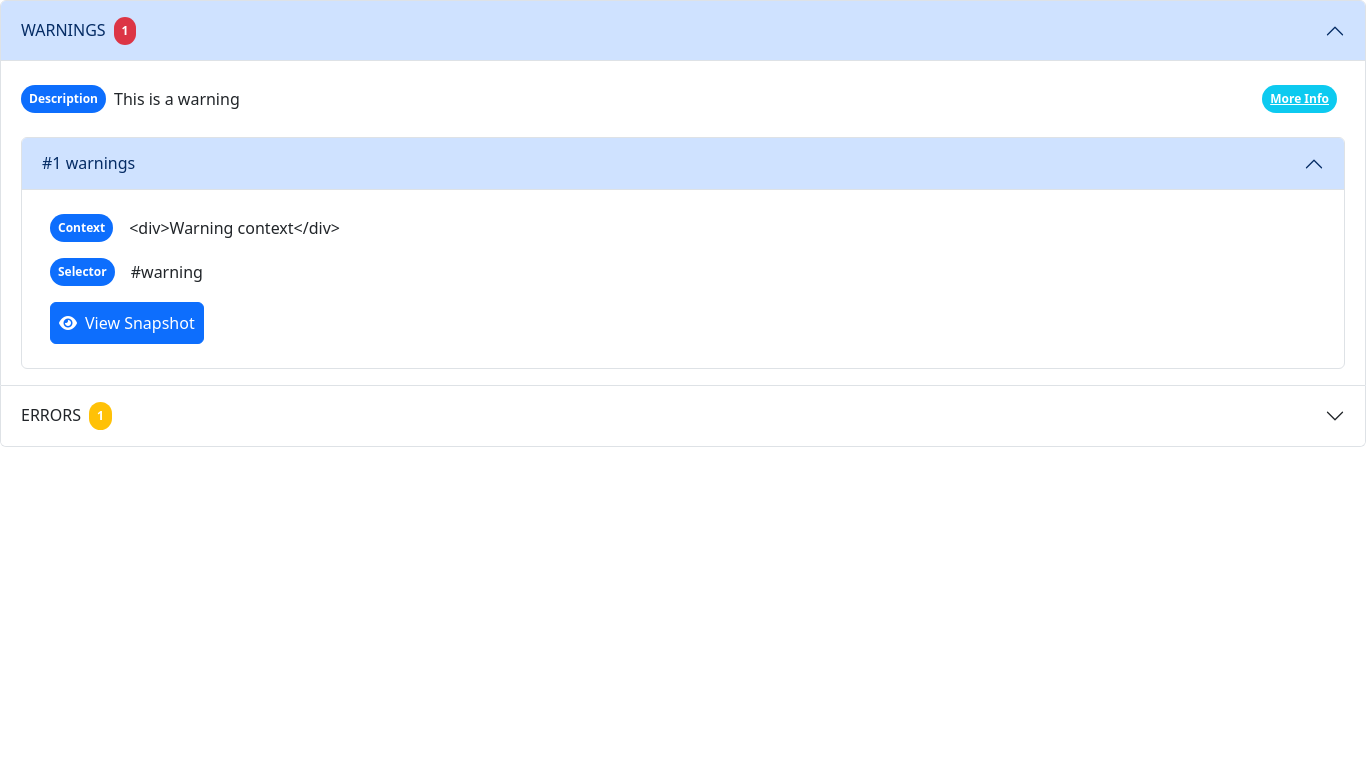
Test case: ResultAccordion Component › closes the modal when close button is clicked
This screenshot has width=1366, height=768.
Click the button "View Snapshot". click: (127, 323)
box: [50,302,204,344]
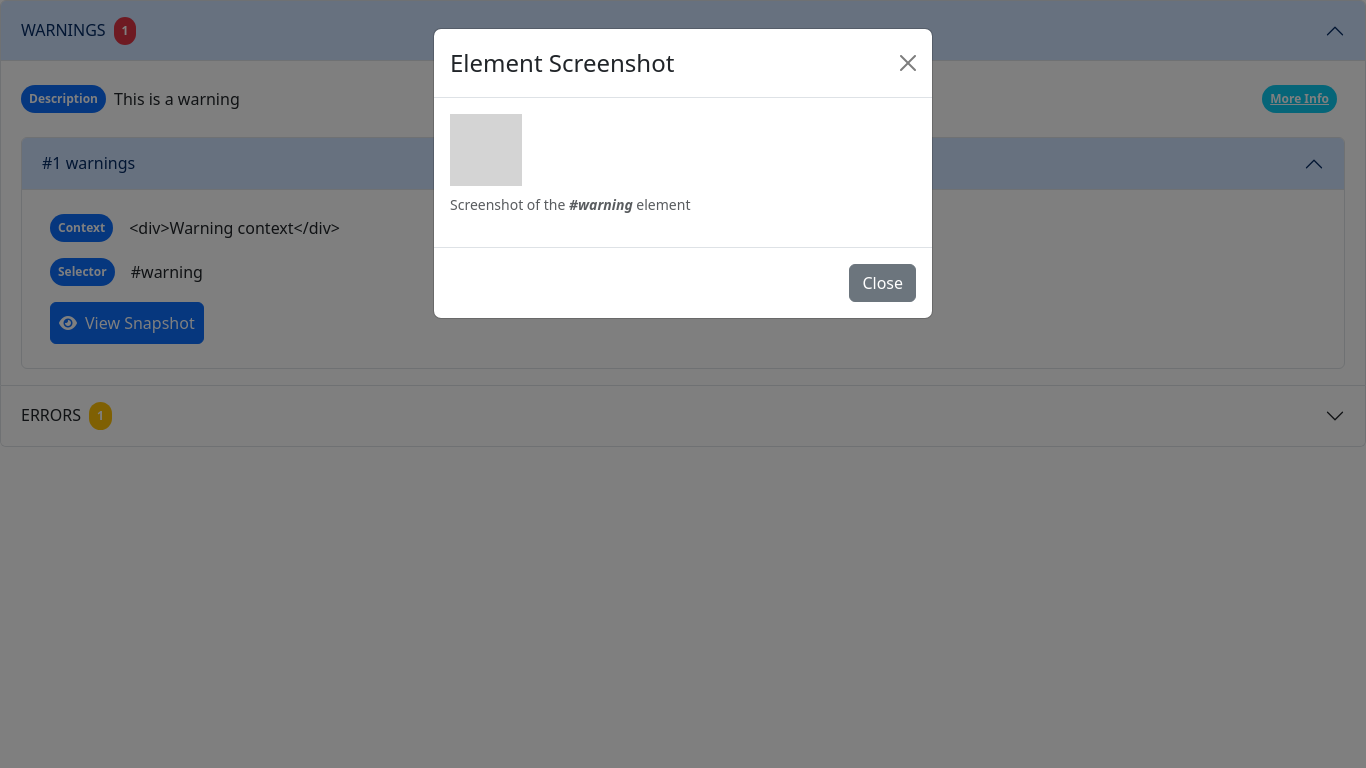
Expected: the text "Element Screenshot" is shown, [450,45,674,81]
Click the button "Close". click: (883, 283)
box: [849,264,916,302]
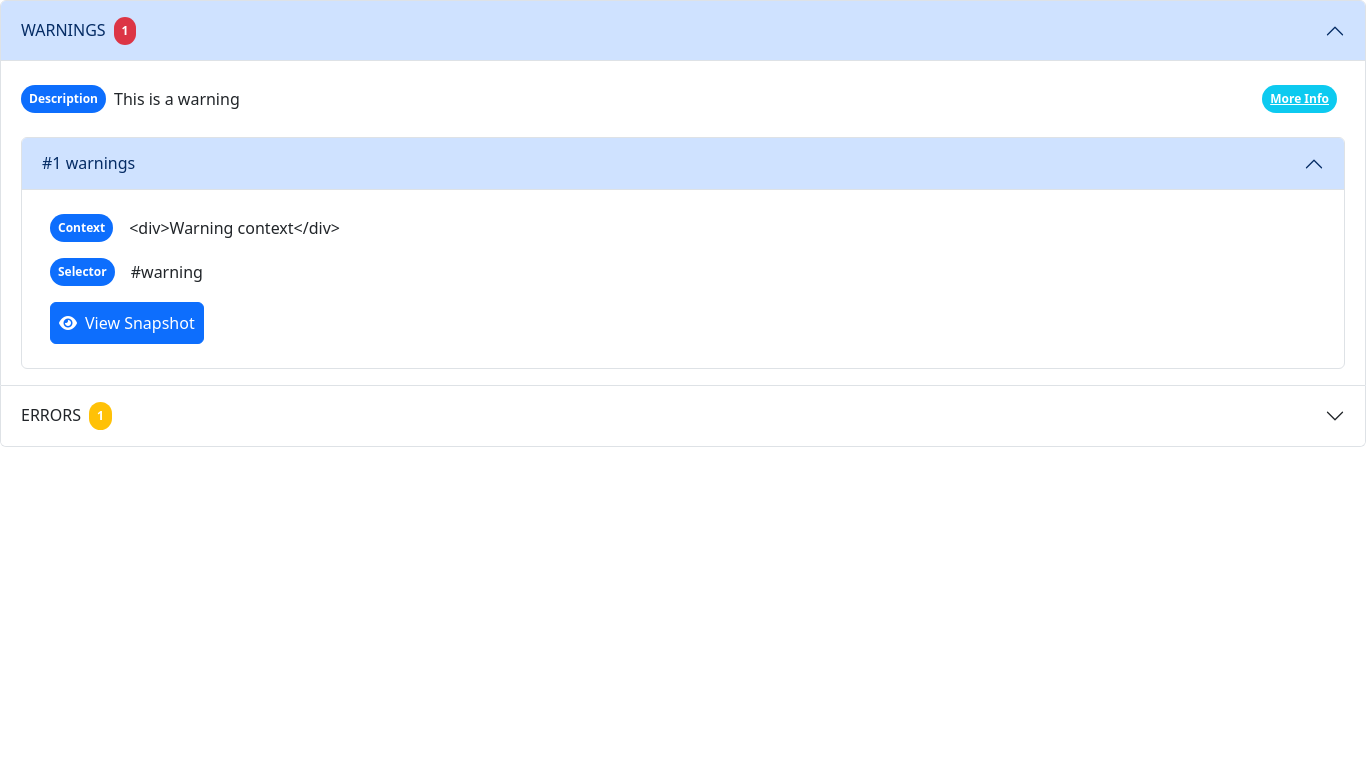
Expected: the text "Element Screenshot" is gone
